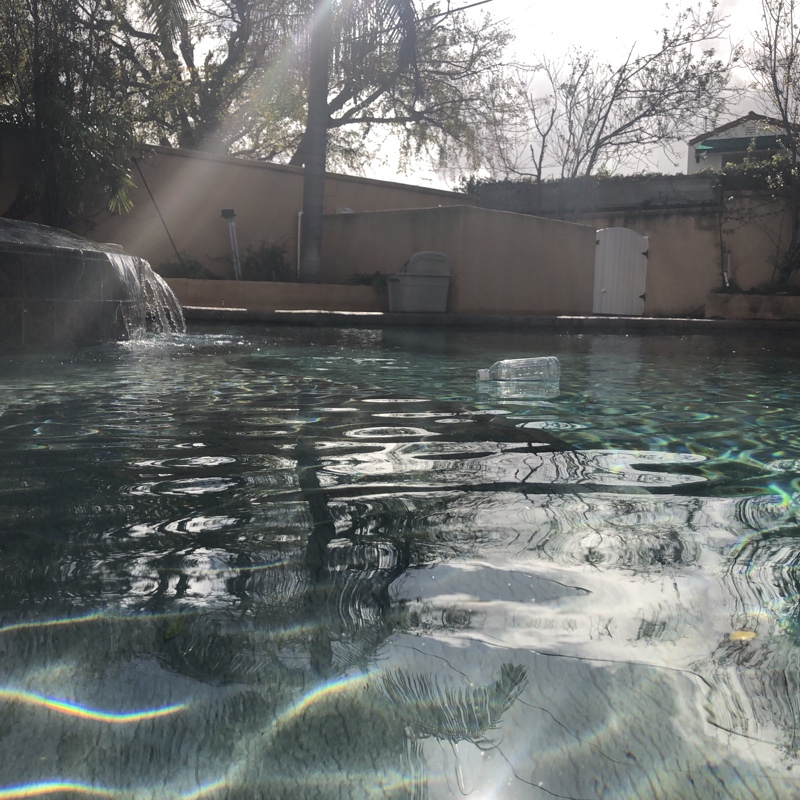Plastic Bottle: (472, 354, 561, 393)
